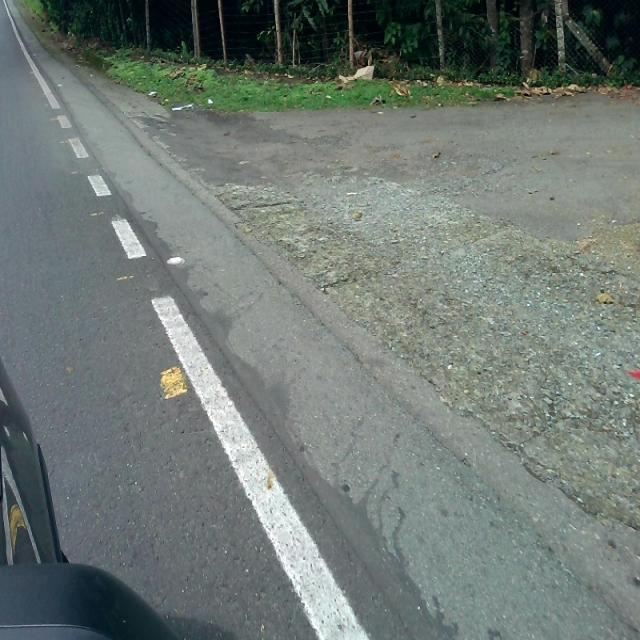DITCH: (4, 2, 639, 638), (4, 4, 638, 638)
